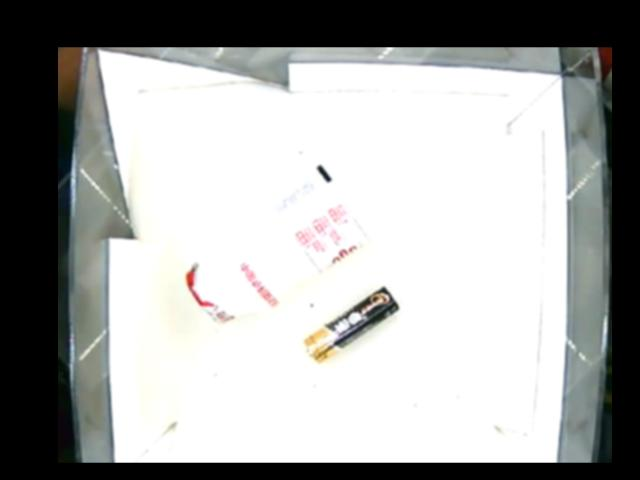Battery: (303, 286, 397, 360)
Bottle: (184, 158, 372, 325)
